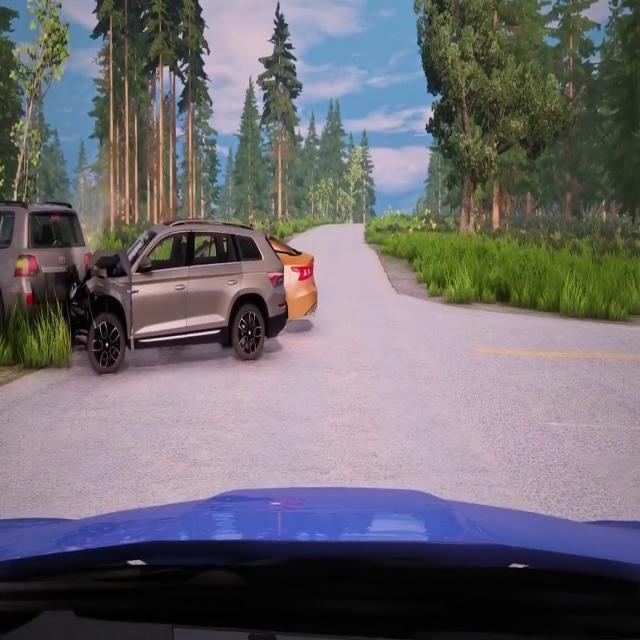accident: (5, 187, 289, 360)
